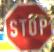Stop sign: (0, 0, 53, 51)
